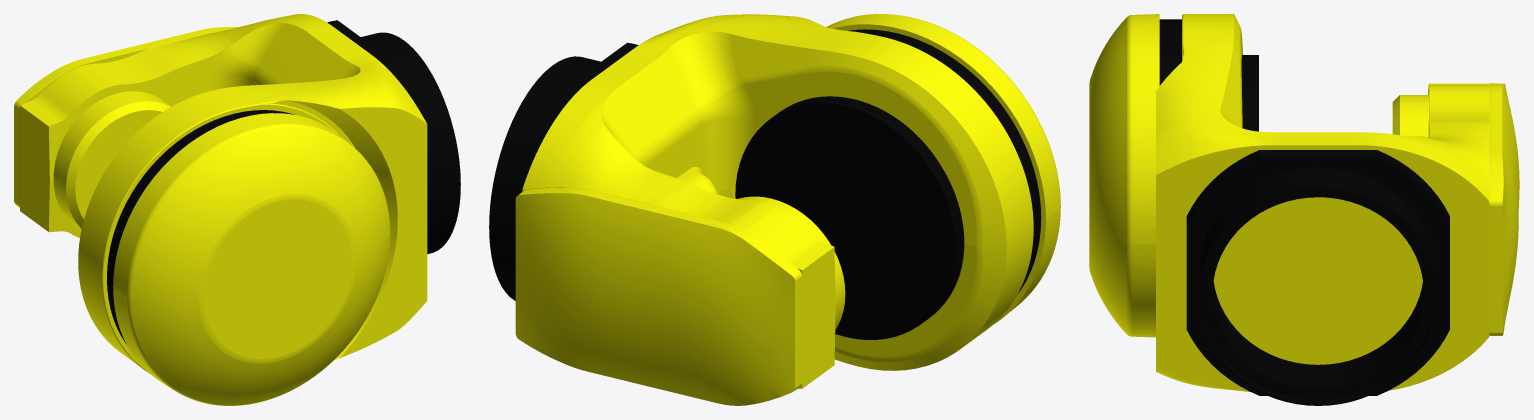
The picture shows the model from 3 angles, left to right: view 1: azimuth 30°, elevation 25°; view 2: azimuth 150°, elevation 25°; view 3: azimuth 270°, elevation 25°; orthographic projection. The views are drawn at different scales.
Visible parts, largest first — view 1: Mesh_0; view 2: Mesh_0; view 3: Mesh_0.
Part boxes in pixels (x1,y1,x2,y2): Mesh_0: (14,14,460,405); Mesh_0: (489,14,1060,405); Mesh_0: (1089,14,1519,405).
Bounding box in the file's own units: 0.3407 × 0.327 × 0.246.
